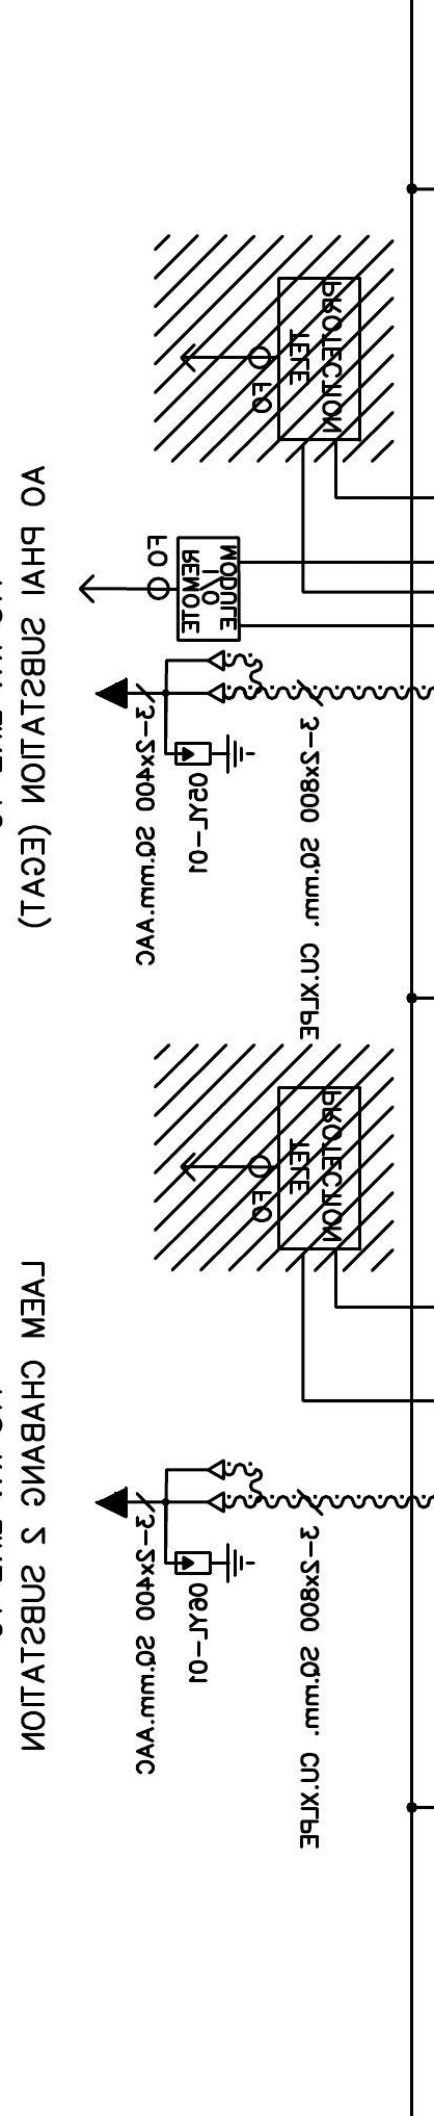115_la: (173, 1542, 256, 1584), (173, 733, 256, 775)
remote_io_module: (175, 534, 243, 644)
tele_protection: (275, 274, 365, 444), (275, 1084, 364, 1254)
terminator_double: (163, 649, 226, 706), (163, 1459, 226, 1514)
